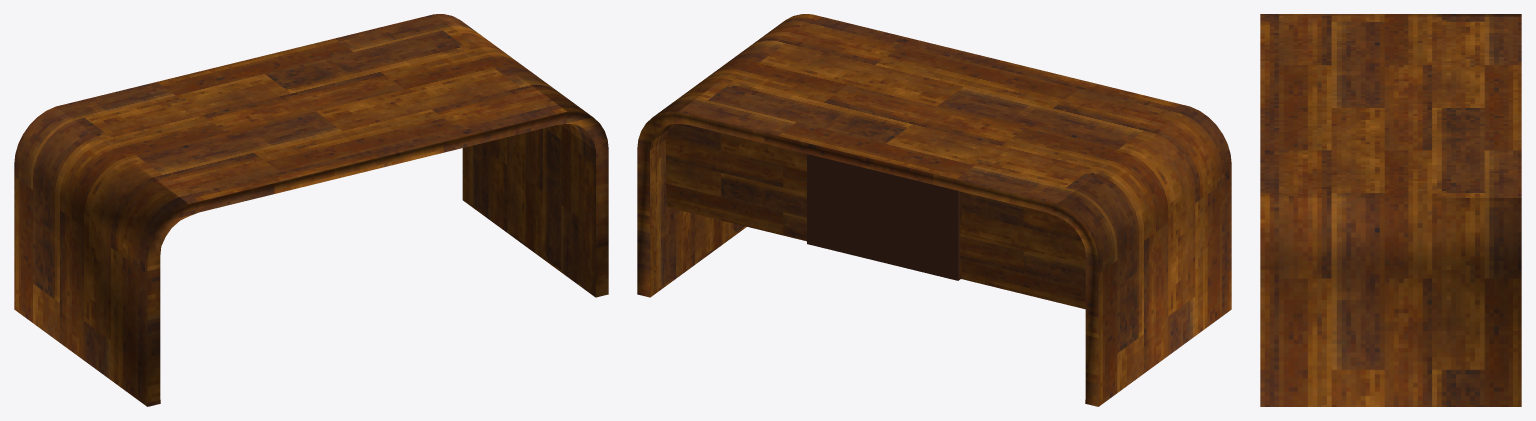
File: DTT Desk (4).fbx
3 renders of one model, left to right at view 1: azimuth 30°, elevation 25°; view 2: azimuth 150°, elevation 25°; view 3: azimuth 270°, elevation 25°, orthographic.
Visible parts, largest first — view 1: Desk!; view 2: Desk!, Desk front1; view 3: Desk!.
Boxes of the visible parts, left/top/right/bottom form: Desk!: left=14, top=14, right=608, bottom=406; Desk!: left=637, top=14, right=1231, bottom=406; Desk front1: left=666, top=124, right=1085, bottom=309; Desk!: left=1260, top=14, right=1521, bottom=406.
Bounding box in the file's own units: 10.41 × 4.16 × 5.2.
